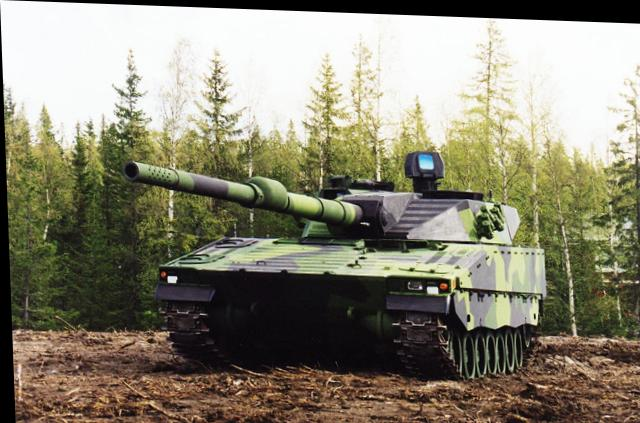tank: (148, 207, 542, 374)
